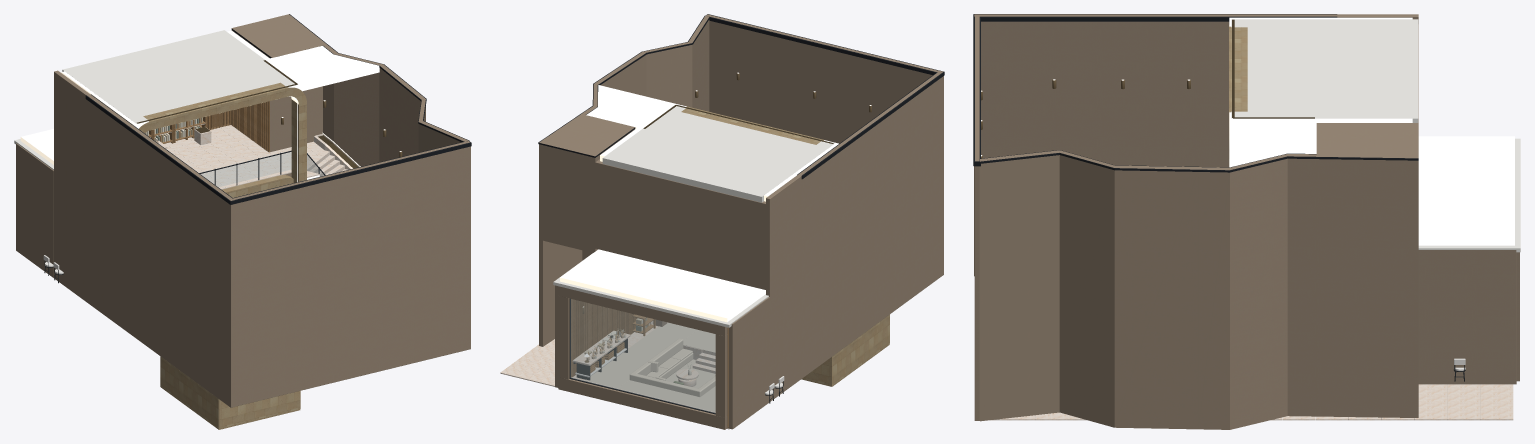
File: connected-atelier.glb
3 views of the same model, side by side, from view 1: azimuth 30°, elevation 25°; view 2: azimuth 150°, elevation 25°; view 3: azimuth 270°, elevation 25° (orthographic). The views are drawn at different scales.
Parts seen in each view (by area): view 1: Connected_Atelier; view 2: Connected_Atelier; view 3: Connected_Atelier.
Part boxes in pixels (left/top/right/bottom): Connected_Atelier: left=14, top=14, right=471, bottom=429; Connected_Atelier: left=500, top=14, right=944, bottom=429; Connected_Atelier: left=973, top=14, right=1520, bottom=429.
Size of the model in its own units: 13.76 by 13.05 by 19.9.
Materials: 37 (8 with a texture image).
